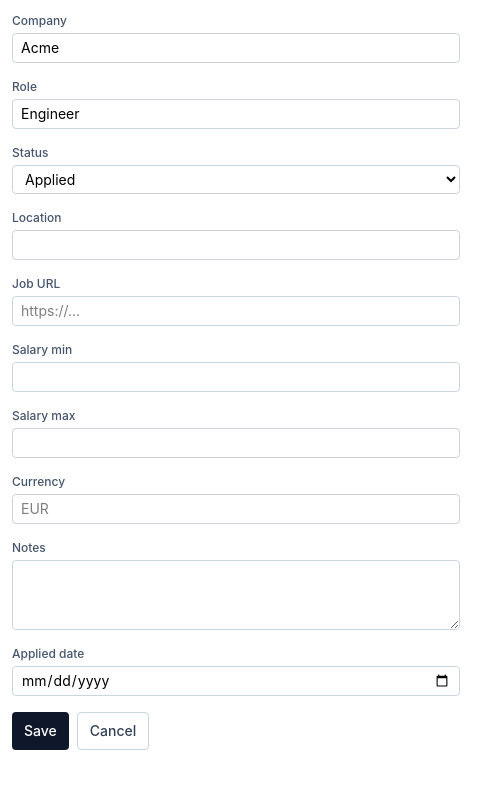
Scenario: ApplicationForm › rejects a malformed job URL
The width and height of the screenshot is (477, 788).
Type "not a url" into the field labelled "Job URL".
click(236, 311); type("not a url")  # box [12,296,460,326]
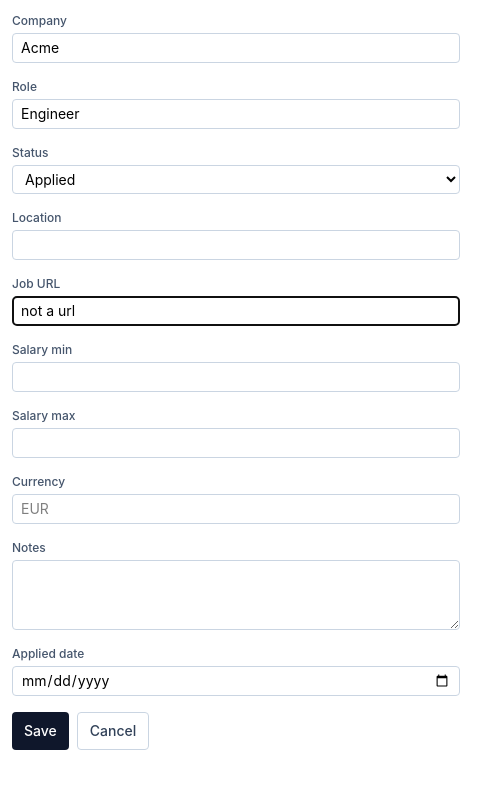
Click the button "Save".
click(40, 731)  # box [12,712,69,750]
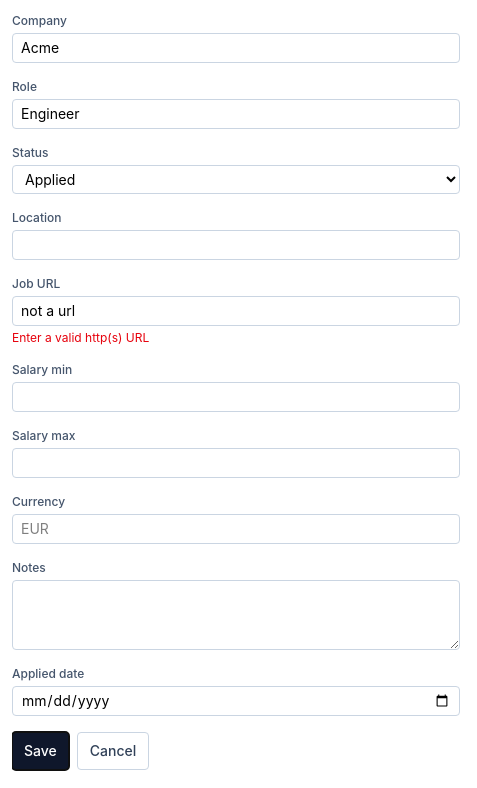
Check: the text "Enter a valid http(s) URL" is shown, box [12,330,149,345]
